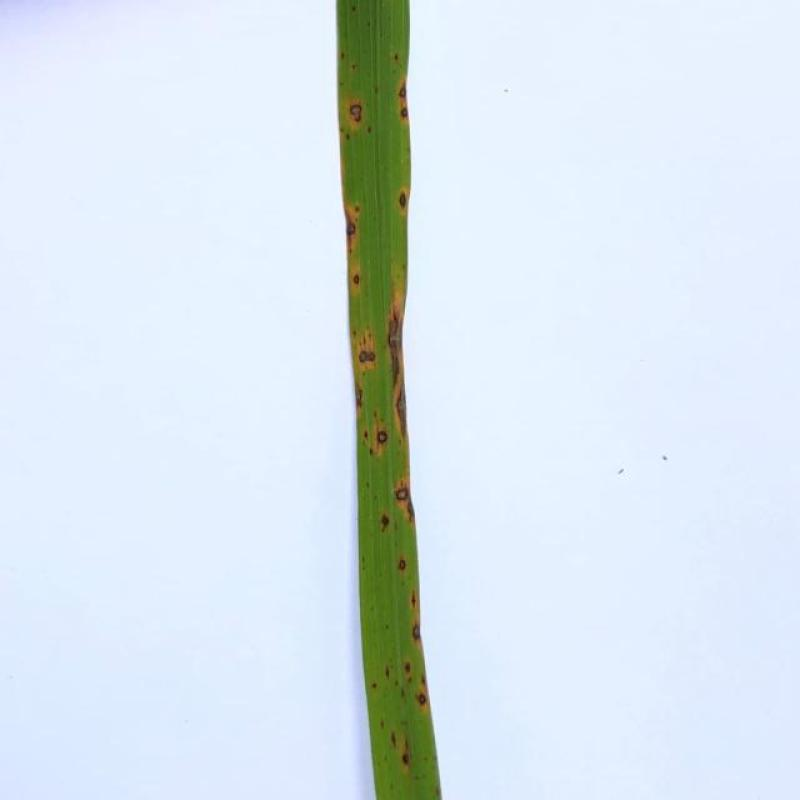Leaf_Blast: (382, 310, 403, 374), (392, 383, 414, 427), (395, 481, 409, 505), (372, 425, 390, 443)
